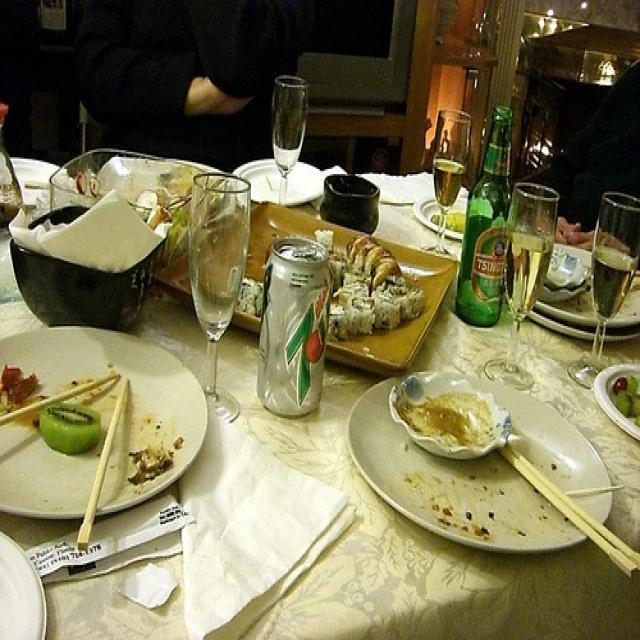bottle: (453, 103, 516, 330)
diningtable: (0, 161, 639, 638)
